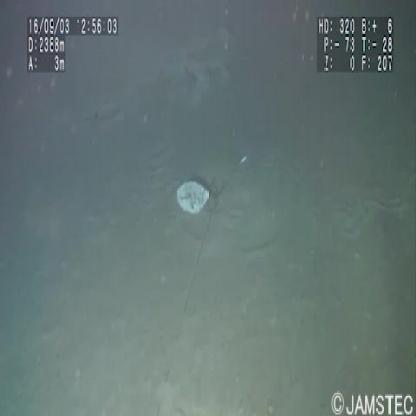Rác: (173, 174, 215, 220)
